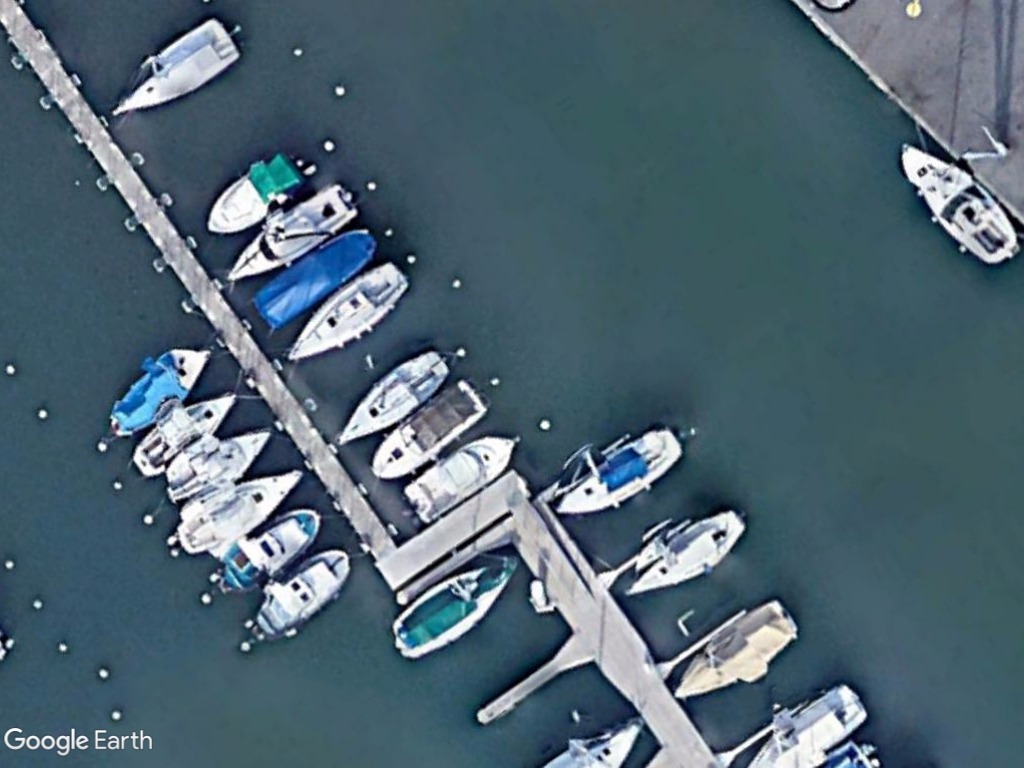boat: (897, 137, 1019, 268), (665, 599, 803, 702), (224, 181, 362, 283), (108, 19, 244, 120), (370, 376, 491, 486), (287, 258, 409, 362), (554, 421, 686, 517), (252, 227, 377, 328), (175, 461, 305, 556), (623, 506, 745, 597), (335, 352, 450, 446), (131, 385, 241, 478), (406, 434, 519, 524), (105, 344, 212, 438), (216, 502, 326, 592), (251, 548, 351, 642), (164, 423, 275, 504), (203, 155, 306, 236)
